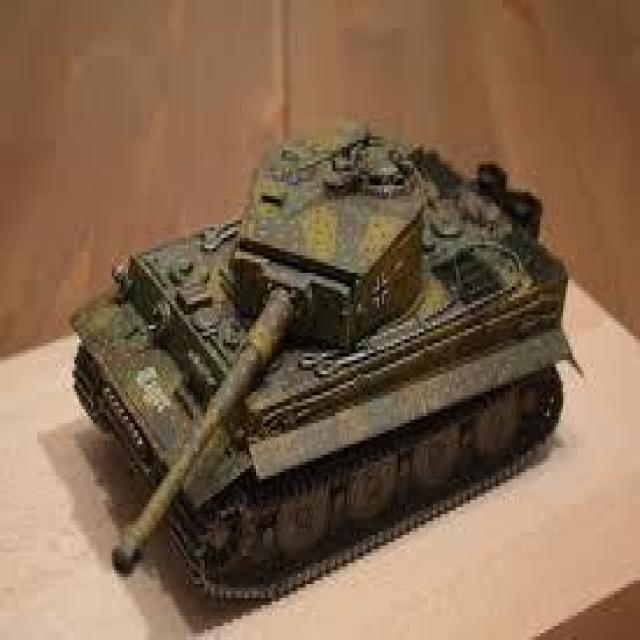Tanks: (30, 75, 608, 614)
